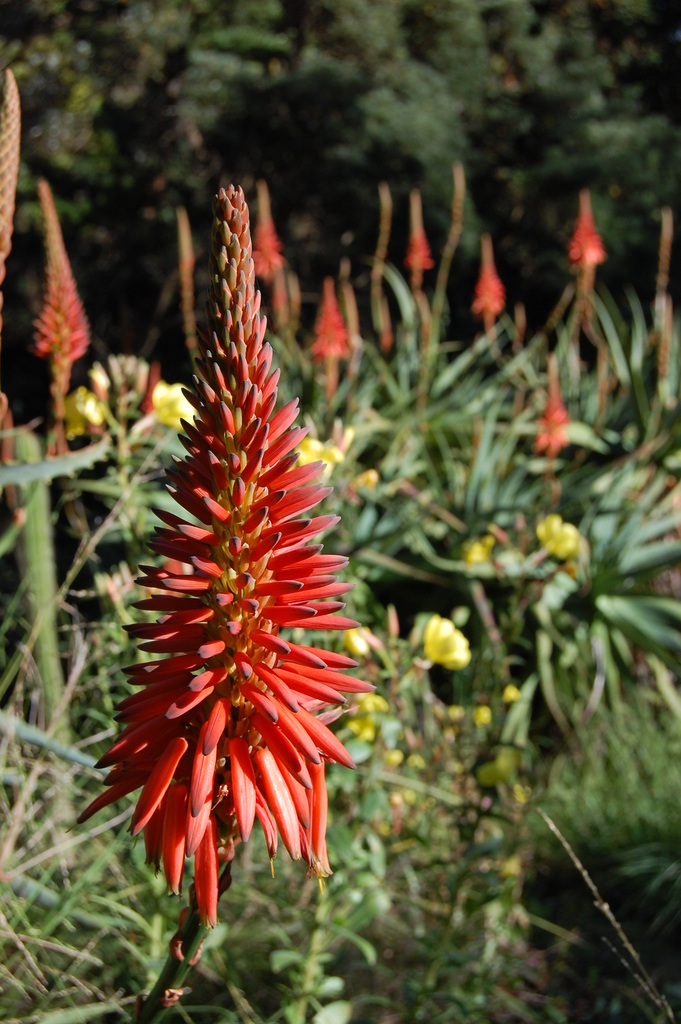Tree: (0, 0, 680, 427)
